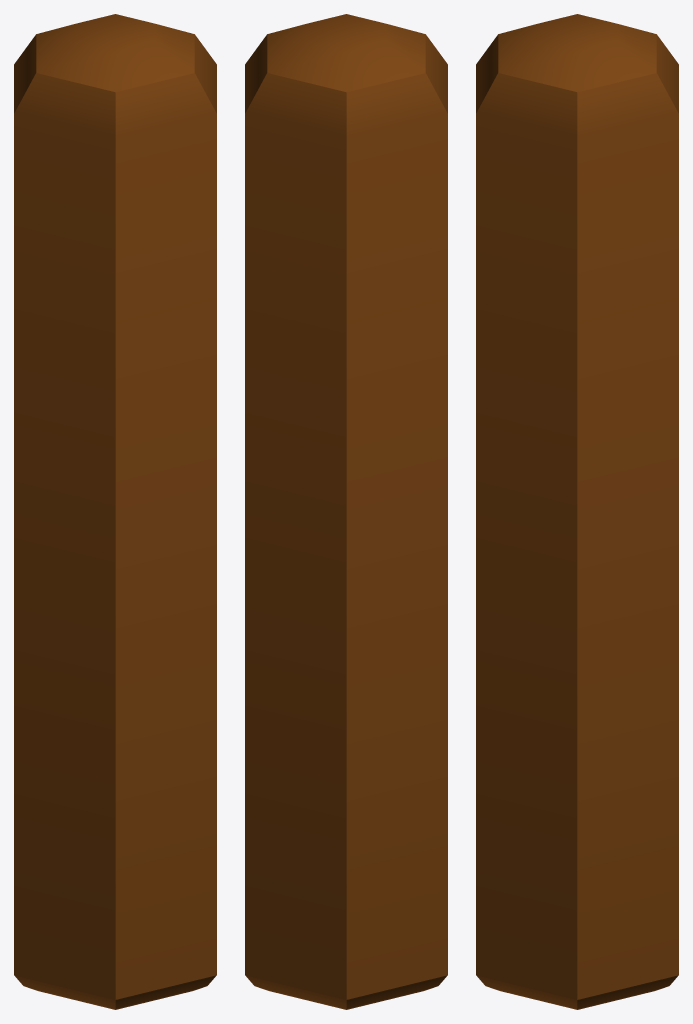
The model's file is Antorcha_Coco.fbx.
The picture shows the model from 3 angles, left to right: view 1: azimuth 30°, elevation 25°; view 2: azimuth 150°, elevation 25°; view 3: azimuth 270°, elevation 25°; orthographic projection.
Visible parts, largest first — view 1: Cylinder002; view 2: Cylinder002; view 3: Cylinder002.
Boxes of the visible parts, left/top/right/bottom form: Cylinder002: left=14, top=14, right=216, bottom=1009; Cylinder002: left=245, top=14, right=447, bottom=1009; Cylinder002: left=476, top=14, right=678, bottom=1009.
Bounding box in the file's own units: 5.23 × 23.11 × 4.53.
